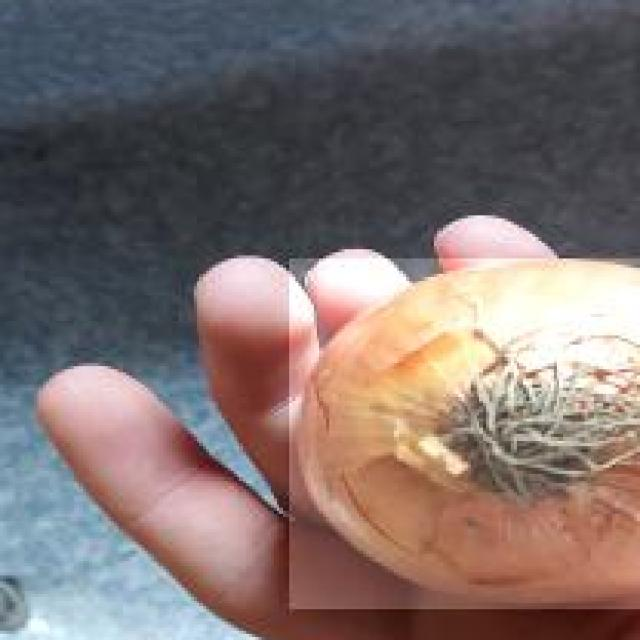onion: (286, 256, 640, 610)
